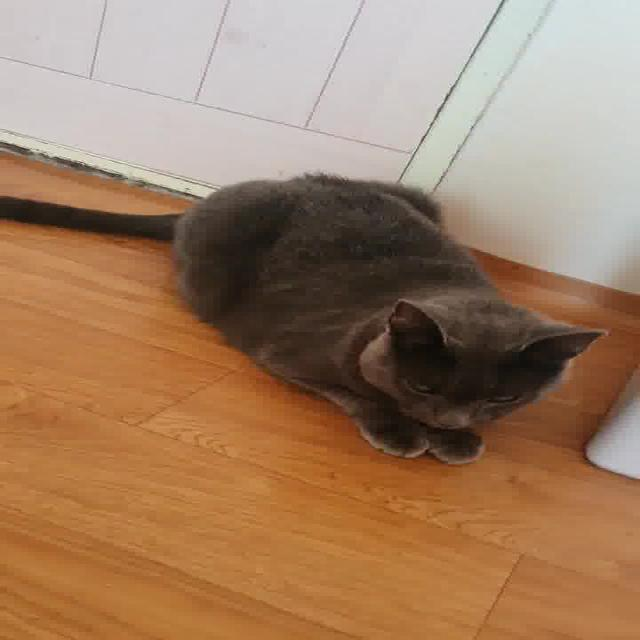cat: (0, 136, 612, 478)
